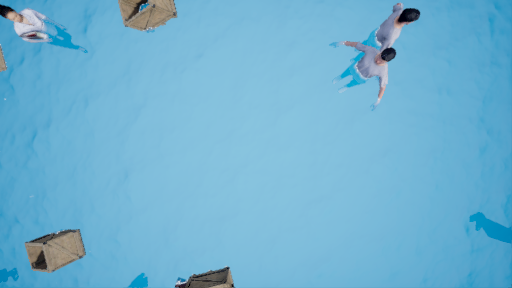person: (327, 36, 398, 109), (1, 5, 95, 58), (355, 5, 425, 54)
